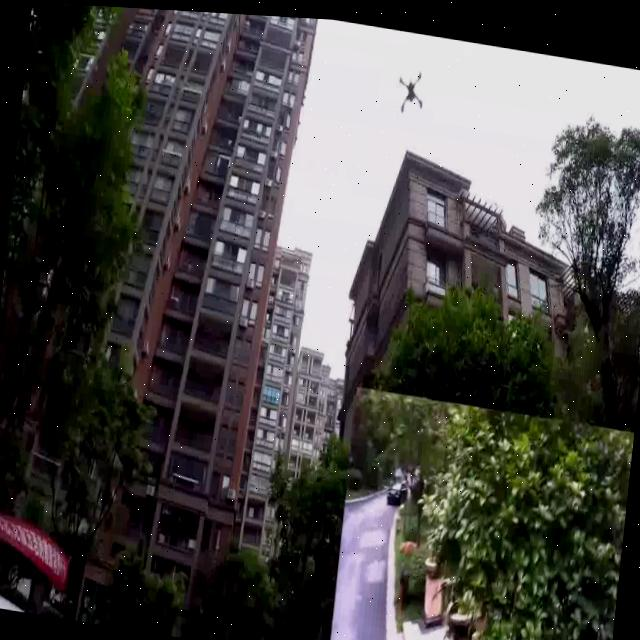drone: (392, 43, 431, 119)
